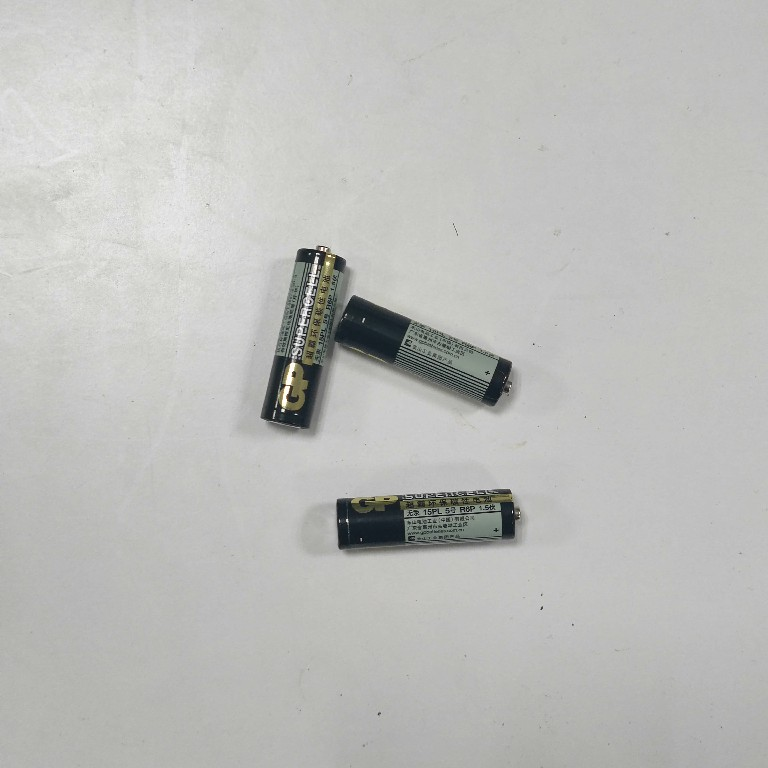charge: (328, 291, 520, 412), (259, 244, 349, 434), (329, 481, 525, 556)
